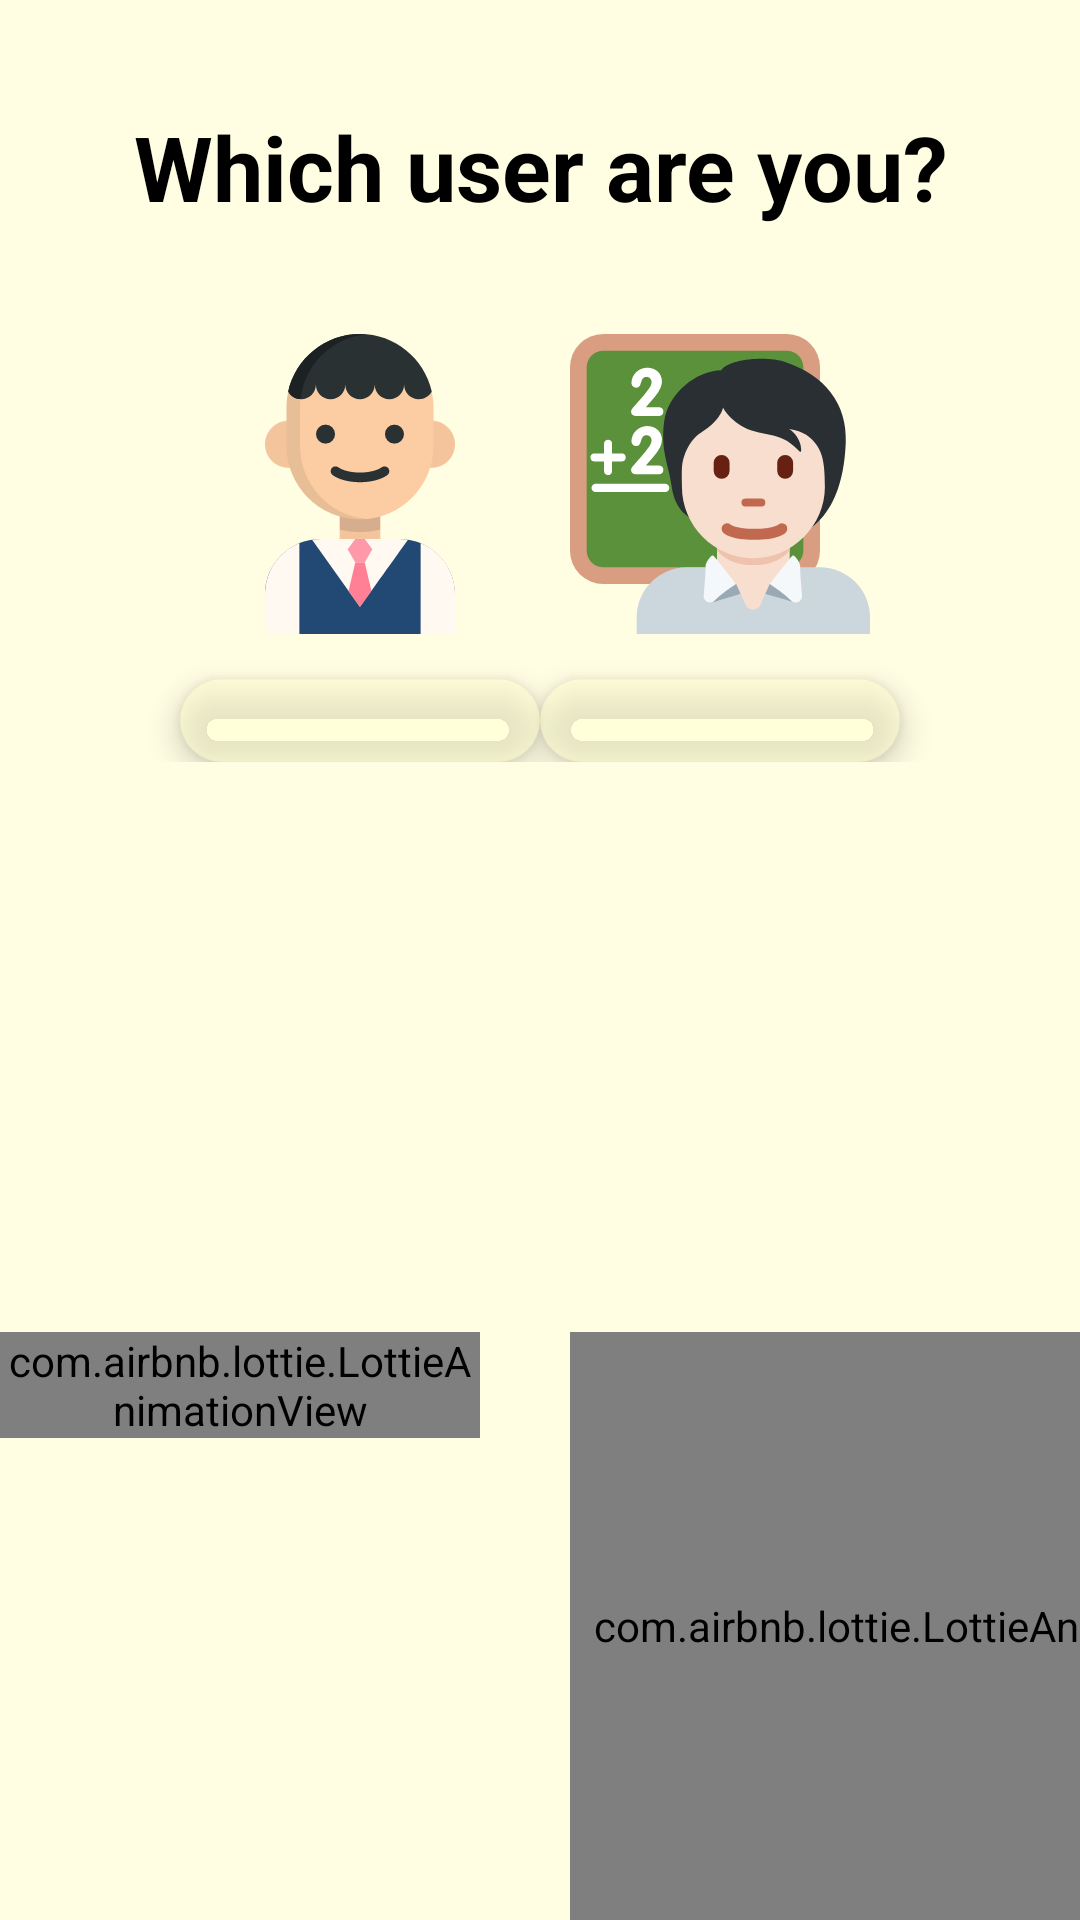

Named icons in this screenshot (1080 × 1920) and their bounding boxes, box(x1, y1, x2, y2):
pupil: box(265, 334, 455, 634)
